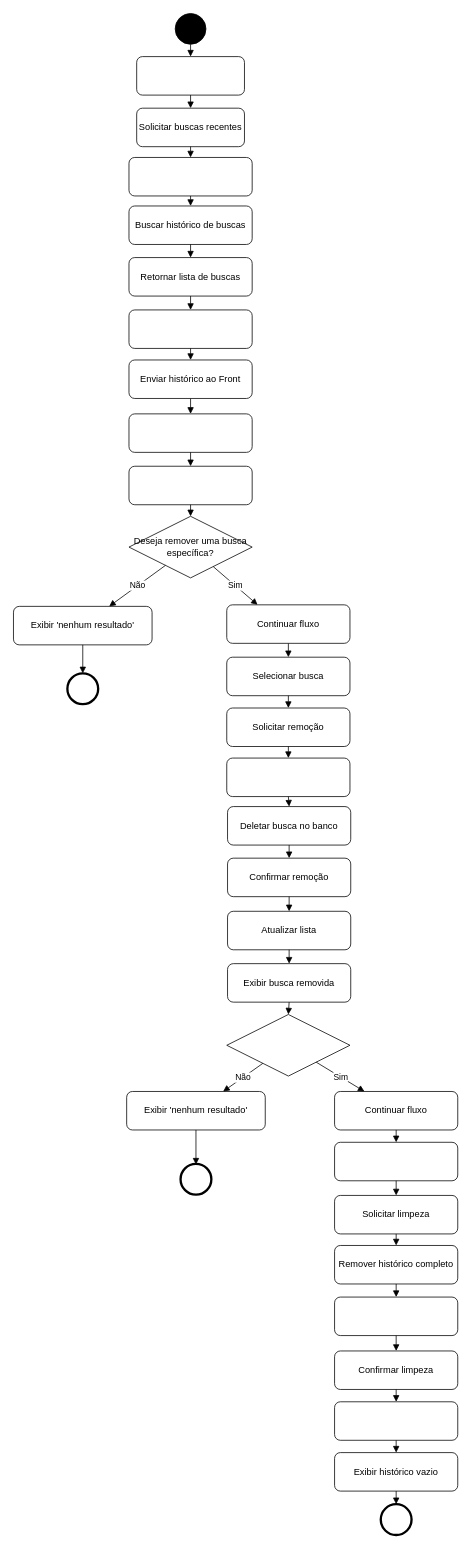
Image size: 471x1549. Some labels were removed from this diagram. Here are the shapes that lost their labels. From the top down, the box of each, then its label:
(136, 56, 244, 95): Abrir busca
(128, 157, 252, 196): Buscar histórico
(128, 309, 252, 348): Retornar histórico
(128, 413, 252, 452): Renderizar histórico
(128, 465, 252, 505): Exibir buscas recentes
(226, 757, 350, 797): Remover registro
(226, 1014, 350, 1076): Deseja limpar todo o histórico?
(334, 1142, 458, 1181): Clicar em "Limpar histórico"
(334, 1296, 458, 1336): Deletar todas as buscas
(334, 1401, 458, 1440): Limpar lista exibida
